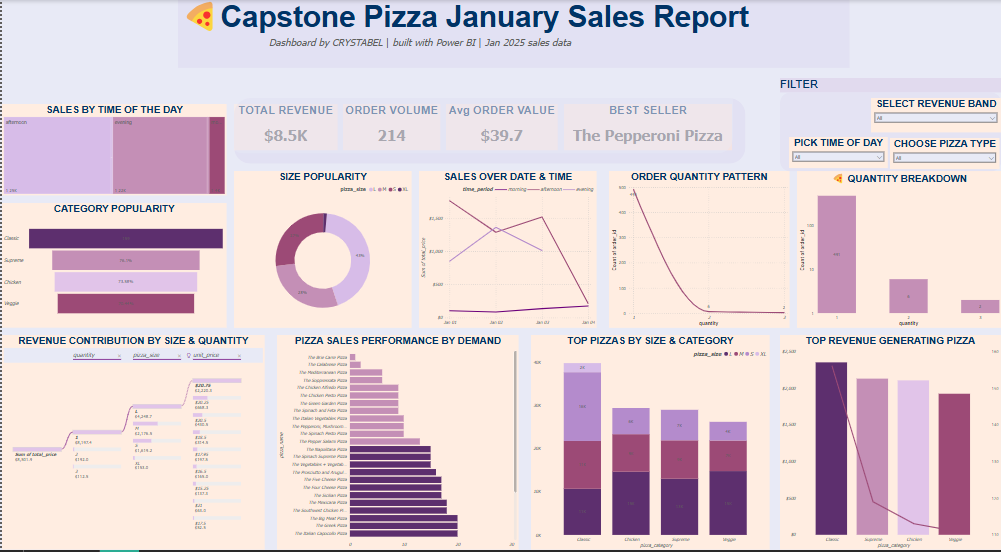

Layout of this report page (visuals, bound fields, positions):
{"tool":"powerbi","page":{"name":"Page 1","canvas":[2700,1500],"ordinal":0},"visuals":[{"type":"cardVisual","title":"TOTAL REVENUE ","fields":{"Data":["Sum(edit tab.total_price)"]},"box":[628.2,293.4,279.5,124.5],"z":0},{"type":"columnChart","title":"TOP PIZZAS BY SIZE & CATEGORY","fields":{"Y":["Sum(edit tab.order_details_id)"],"Category":["edit tab.pizza_category"],"Series":["edit tab.pizza_size"]},"box":[1430,920,645,580],"z":1000},{"type":"donutChart","title":" SIZE POPULARITY","fields":{"Category":["edit tab.pizza_size"],"Y":["Sum(edit tab.quantity)"]},"box":[628,476,480,424],"z":2000},{"type":"lineChart","title":"SALES OVER DATE & TIME","fields":{"Y":["Sum(edit tab.total_price)"],"Series":["edit tab.time_period"],"Category":["edit tab.order_date.Variation.Date Hierarchy.Year","edit tab.order_date.Variation.Date Hierarchy.Quarter","edit tab.order_date.Variation.Date Hierarchy.Month","edit tab.order_date.Variation.Date Hierarchy.Day"]},"box":[1128,476,480,424],"z":3000},{"type":"funnel","title":"CATEGORY POPULARITY","fields":{"Y":["Sum(edit tab.quantity)"],"Category":["edit tab.pizza_category"]},"box":[0,563.3,606.7,336.7],"z":4000},{"type":"lineStackedColumnComboChart","title":"TOP REVENUE GENERATING PIZZA","fields":{"Category":["edit tab.pizza_category"],"Y":["Sum(edit tab.total_price)"],"Y2":["CountNonNull(edit tab.unit_price)"]},"box":[2103.3,920,596.7,580],"z":5000},{"type":"decompositionTreeVisual","title":"REVENUE CONTRIBUTION BY SIZE & QUANTITY","fields":{"Analyze":["Sum(edit tab.total_price)"],"ExplainBy":["edit tab.quantity","edit tab.pizza_size","edit tab.unit_price"]},"box":[0,920,710,580],"z":6000},{"type":"columnChart","title":"🍕 QUANTITY BREAKDOWN","fields":{"Category":["edit tab.quantity"],"Y":["CountNonNull(edit tab.order_id)"]},"box":[2148,476,552,424],"z":7000},{"type":"lineChart","title":"ORDER QUANTITY PATTERN","fields":{"Category":["edit tab.quantity"],"Y":["CountNonNull(edit tab.order_id)"]},"box":[1640,476,488,424],"z":8000},{"type":"treemap","title":"SALES BY TIME OF THE DAY","fields":{"Group":["edit tab.time_period"],"Values":["Sum(edit tab.order_id)"],"Details":["edit tab.quantity"]},"box":[0,293.5,607.4,247],"z":9000},{"type":"clusteredBarChart","title":"PIZZA SALES PERFORMANCE BY DEMAND ","fields":{"Category":["edit tab.pizza_name"],"Y":["CountNonNull(edit tab.order_id)"]},"box":[743.3,920,653.3,580],"z":10000},{"type":"cardVisual","title":"BEST SELLER ","fields":{"Data":["edit tab.BEST SELLLER"]},"box":[1519.4,293.4,453.9,124.5],"z":11000},{"type":"cardVisual","title":"ORDER VOLUME","fields":{"Data":["edit tab.Measure"]},"box":[921.6,293.4,262.9,124.5],"z":12000},{"type":"cardVisual","title":"Avg ORDER VALUE","fields":{"Data":["edit tab.AOV"]},"box":[1201.1,293.4,301.7,124.5],"z":13000},{"type":"shape","box":[627.5,277.5,1382.5,177.5],"z":14000},{"type":"shape","box":[610,245,1365,182.5],"z":15000},{"type":"textbox","title":"                    🍕Capstone Pizza January Sales Report","box":[476.1,0,1814.5,197.4],"z":16000},{"type":"shape","title":"FILTER","box":[2101.9,223.5,598.1,252.6],"z":17000},{"type":"slicer","title":"SELECT REVENUE BAND","fields":{"Values":["edit tab.REVENUE BAND"]},"box":[2348.7,278.7,351.3,92.9],"z":18000},{"type":"slicer","title":" CHOOSE PIZZA TYPE","fields":{"Values":["edit tab.pizza_name"]},"box":[2401,386.1,296.1,84.2],"z":19000},{"type":"slicer","title":"PICK TIME OF DAY","fields":{"Values":["edit tab.time_period"]},"box":[2128.1,383.2,267.1,84.2],"z":20000}]}

Visuals, with their boxes in screenshot pixels (x1, y1, x2, y2), scaled from the page's 2700x1500 canvas onto the 1001x552 screenshot:
"TOTAL REVENUE " cardVisual: left=233, top=108, right=337, bottom=154
"TOP PIZZAS BY SIZE & CATEGORY" columnChart: left=530, top=339, right=769, bottom=551
" SIZE POPULARITY" donutChart: left=233, top=175, right=411, bottom=331
"SALES OVER DATE & TIME" lineChart: left=418, top=175, right=596, bottom=331
"CATEGORY POPULARITY" funnel: left=0, top=207, right=225, bottom=331
"TOP REVENUE GENERATING PIZZA" lineStackedColumnComboChart: left=780, top=339, right=1000, bottom=551
"REVENUE CONTRIBUTION BY SIZE & QUANTITY" decompositionTreeVisual: left=0, top=339, right=263, bottom=551
"🍕 QUANTITY BREAKDOWN" columnChart: left=796, top=175, right=1000, bottom=331
"ORDER QUANTITY PATTERN" lineChart: left=608, top=175, right=789, bottom=331
"SALES BY TIME OF THE DAY" treemap: left=0, top=108, right=225, bottom=199
"PIZZA SALES PERFORMANCE BY DEMAND " clusteredBarChart: left=276, top=339, right=518, bottom=551
"BEST SELLER " cardVisual: left=563, top=108, right=732, bottom=154
"ORDER VOLUME" cardVisual: left=342, top=108, right=439, bottom=154
"Avg ORDER VALUE" cardVisual: left=445, top=108, right=557, bottom=154
shape: left=233, top=102, right=745, bottom=167
shape: left=226, top=90, right=732, bottom=157
"                    🍕Capstone Pizza January Sales Report" textbox: left=177, top=0, right=849, bottom=73
"FILTER" shape: left=779, top=82, right=1000, bottom=175
"SELECT REVENUE BAND" slicer: left=871, top=103, right=1000, bottom=137
" CHOOSE PIZZA TYPE" slicer: left=890, top=142, right=1000, bottom=173
"PICK TIME OF DAY" slicer: left=789, top=141, right=888, bottom=172
